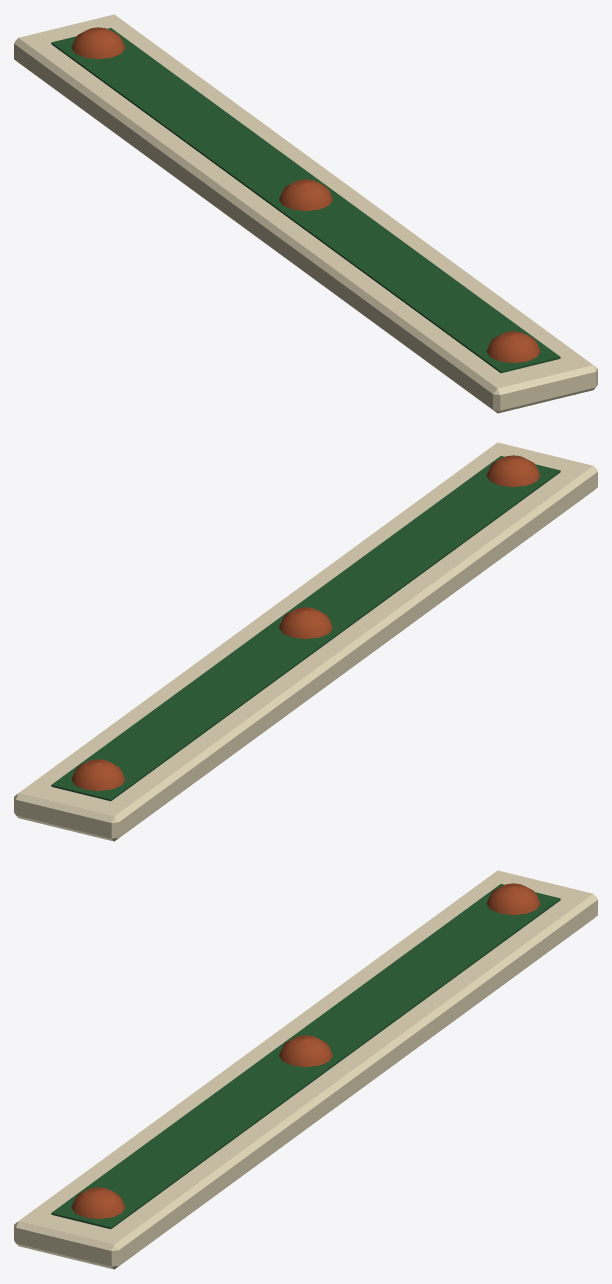
The model's file is pod100_monitor.obj.
3 views of the same model, one above another, from view 1: azimuth 30°, elevation 25°; view 2: azimuth 150°, elevation 25°; view 3: azimuth 330°, elevation 25° (orthographic).
Visible parts, largest first — view 1: pod100_monitor; view 2: pod100_monitor; view 3: pod100_monitor.
Part boxes in pixels (left/top/right/bottom): pod100_monitor: left=14, top=14, right=597, bottom=413; pod100_monitor: left=14, top=442, right=597, bottom=841; pod100_monitor: left=14, top=870, right=597, bottom=1269.
Size of the model in its own units: 0.7 by 0.28 by 5.6.
